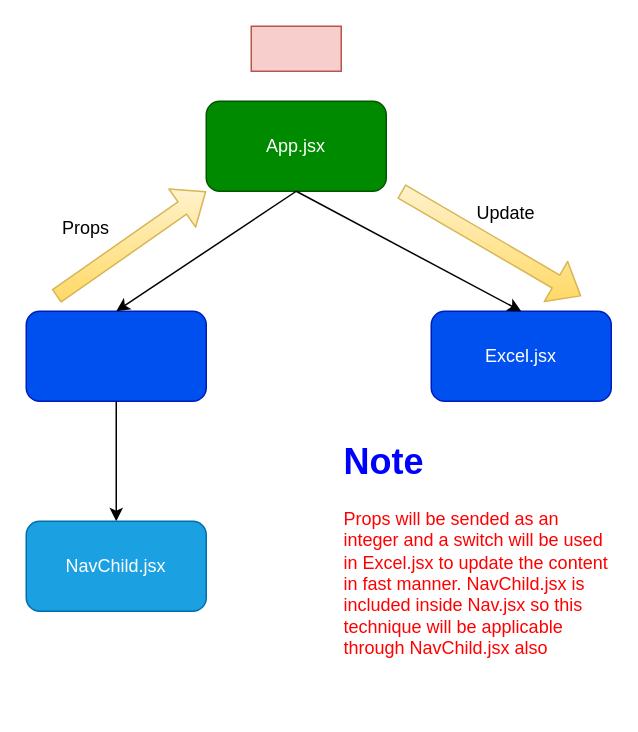
Some shapes in this 638 by 732 pixel diagram are drawn without their labels. Here are the shapes that lost their labels. From the top down, the box of each, then its label:
(250, 25, 341, 71): Week 1
(25, 310, 206, 401): Nav.jsx
